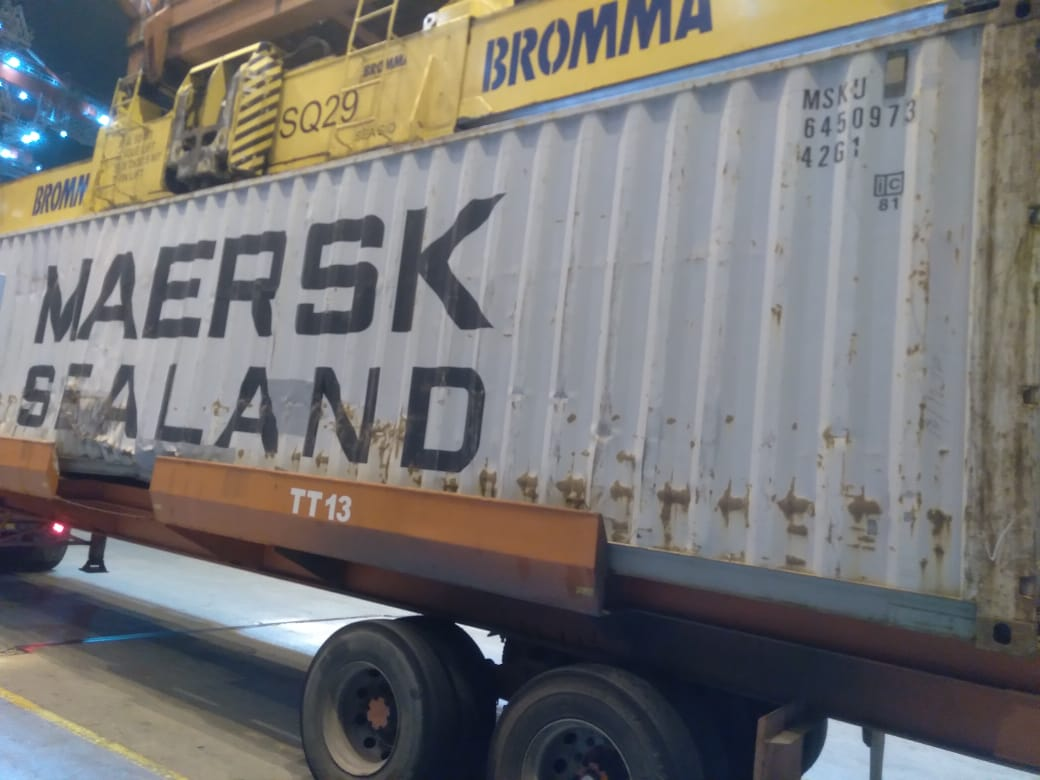bulged: (416, 412, 944, 534), (46, 400, 247, 509)
